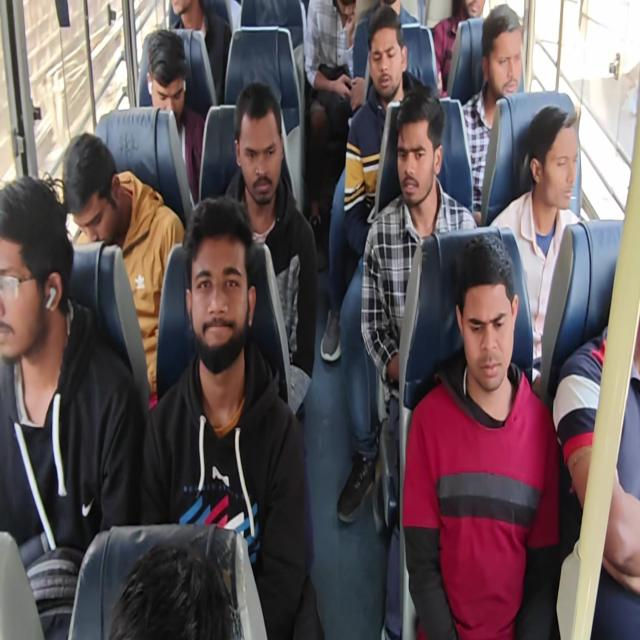person: (1, 1, 638, 638), (139, 195, 323, 638), (0, 174, 144, 638), (359, 85, 478, 638), (402, 231, 560, 638), (324, 6, 425, 524), (62, 131, 186, 408), (223, 80, 318, 422), (489, 104, 585, 386), (552, 310, 640, 596), (343, 5, 425, 256), (303, 0, 364, 252), (461, 3, 524, 223), (107, 542, 234, 639), (145, 28, 205, 205), (168, 0, 232, 104), (432, 0, 486, 97)
